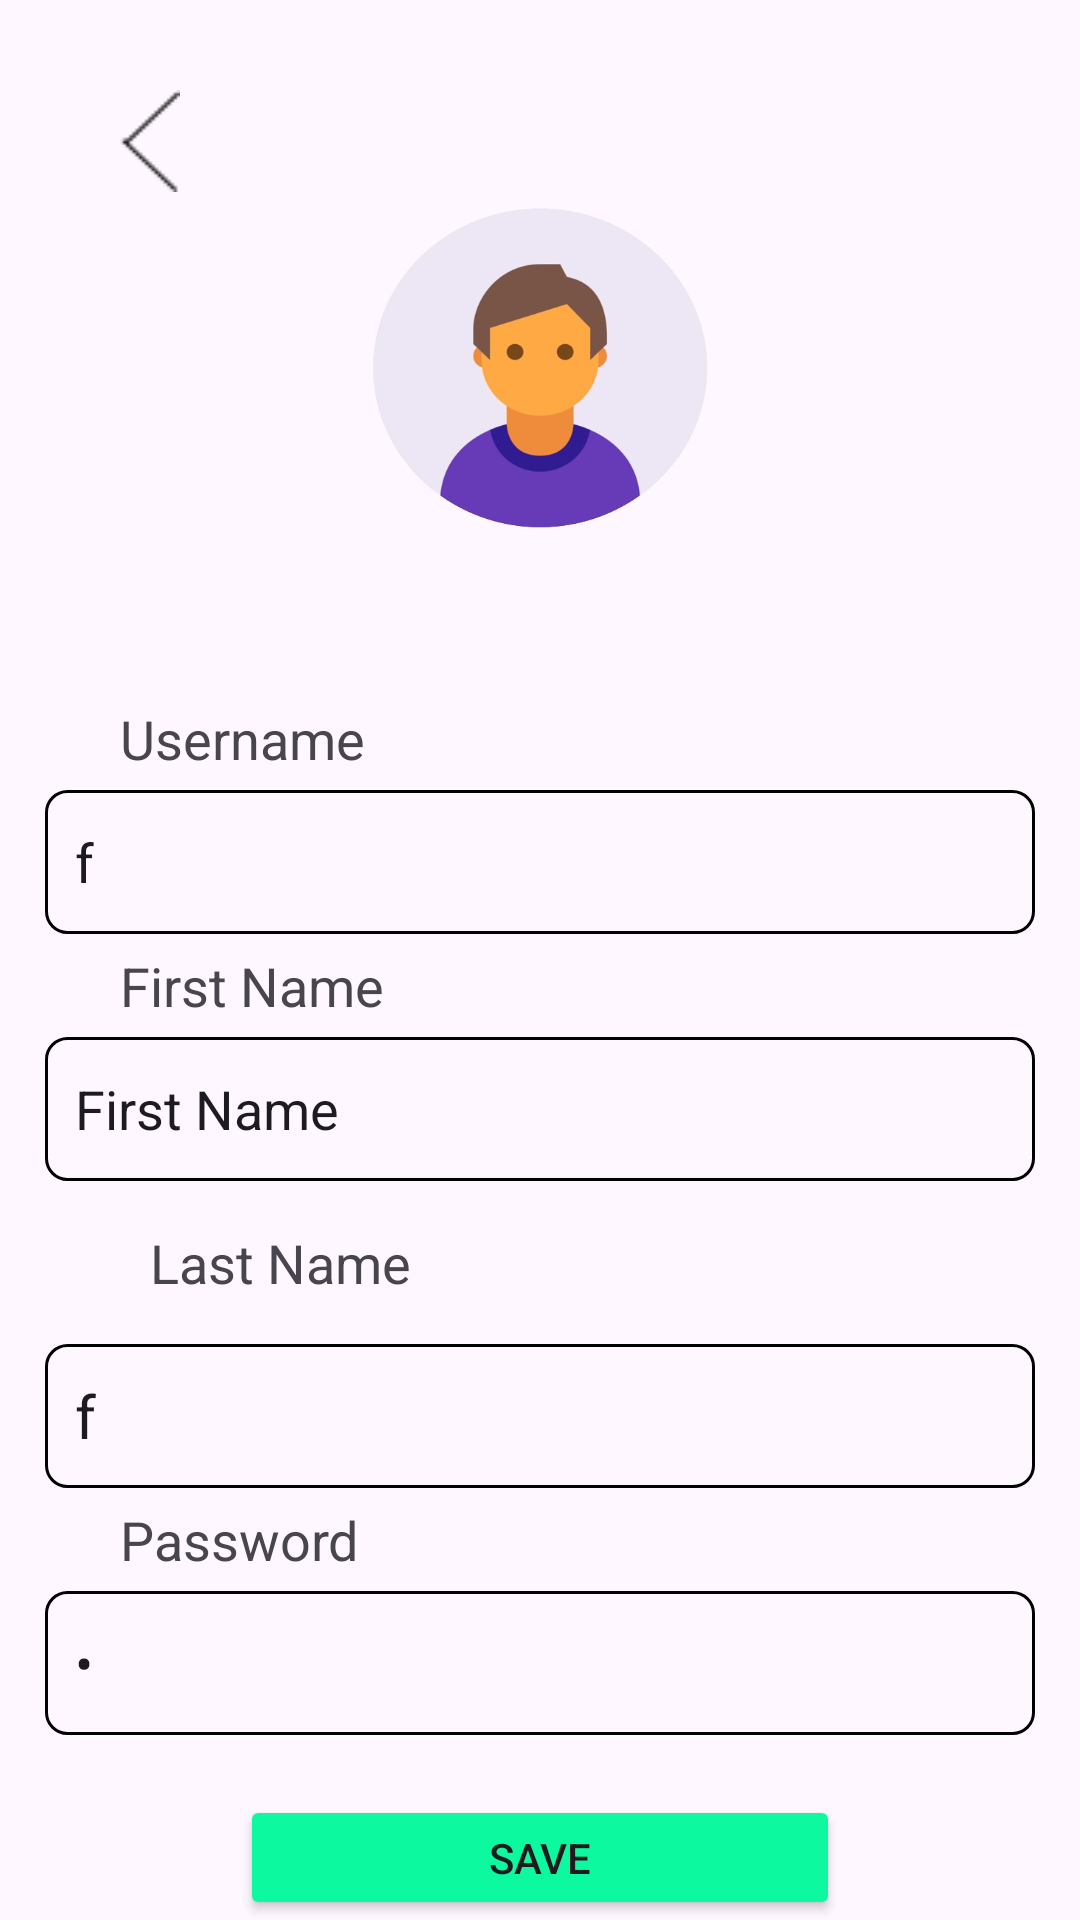

Icons on this 1080*1920 Android screen, each with its box as (x1, y1, x2, y2):
back: (122, 90, 180, 192)
